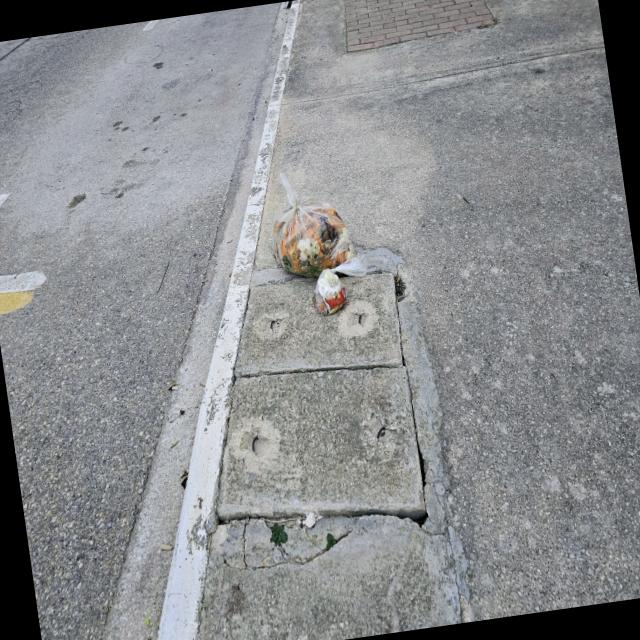white_bag: (261, 160, 364, 286), (307, 250, 368, 320)
